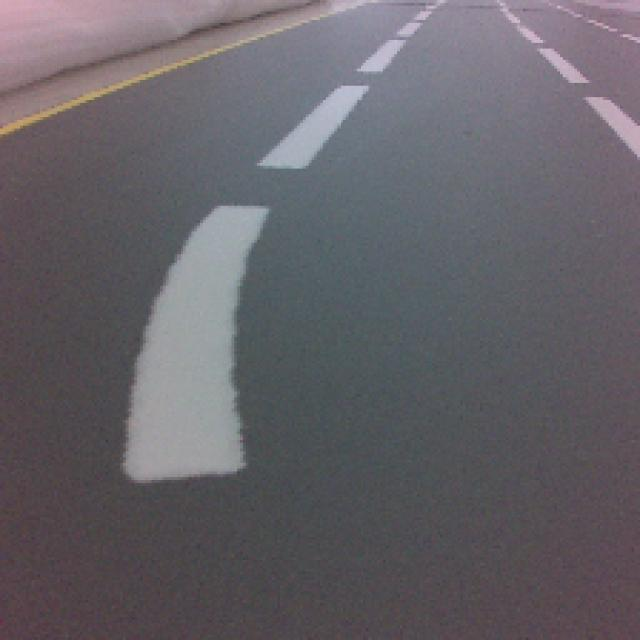Guard rail: (131, 199, 264, 478)
